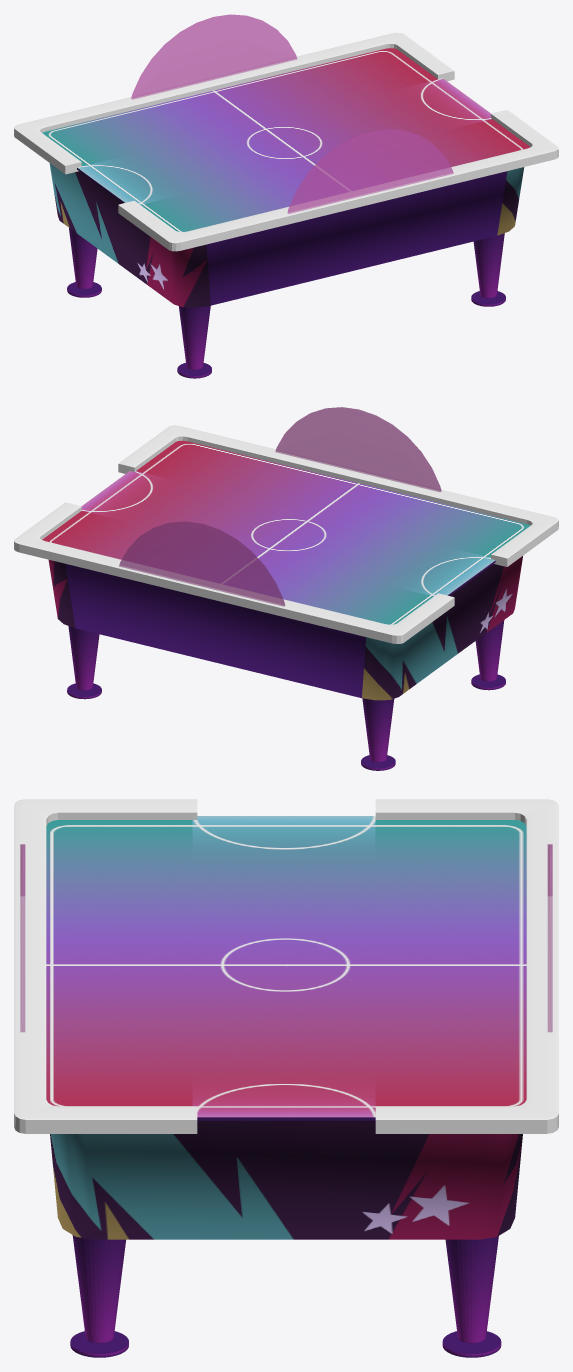
File: stage.fbx
The picture shows the model from 3 angles, top to bottom: view 1: azimuth 30°, elevation 25°; view 2: azimuth 150°, elevation 25°; view 3: azimuth 270°, elevation 25°; orthographic projection. The views are drawn at different scales.
Parts seen in each view (by area): view 1: Table, Box, Frame, Partition, Leg; view 2: Table, Box, Frame, Partition, Leg; view 3: Table, Box, Frame, Leg, Partition.
Part boxes in pixels (x1,y1,x2,y2): Table: (42, 48, 530, 231); Box: (49, 163, 524, 307); Frame: (14, 32, 558, 251); Partition: (131, 14, 453, 213); Leg: (67, 228, 505, 378); Table: (42, 440, 530, 624); Box: (48, 556, 522, 700); Frame: (14, 425, 558, 643); Partition: (119, 407, 441, 606); Leg: (67, 620, 505, 770); Table: (46, 816, 526, 1120); Box: (50, 1120, 522, 1239); Frame: (14, 799, 558, 1133); Leg: (70, 1235, 501, 1357); Partition: (20, 844, 552, 1032).
Bounding box in the file's own units: 53.75 × 28.86 × 38.6.
2 materials, 1 textured.
